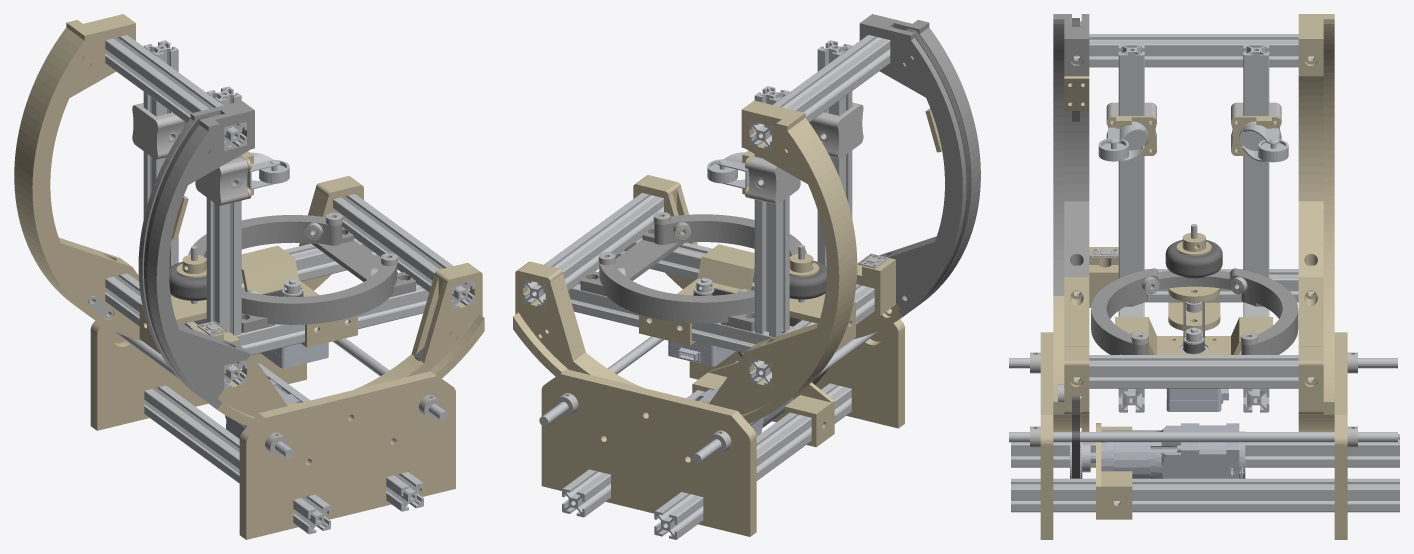
Rendered from biaxial.glb.
3 renders of one model, left to right at view 1: azimuth 30°, elevation 25°; view 2: azimuth 150°, elevation 25°; view 3: azimuth 270°, elevation 25°, orthographic.
Parts seen in each view (by area): view 1: 04_Soporte_base_Izq, 08_SujetadorAsC, 09_SujetadorA, 26_base_giro_z, 10_SujetadoB, 01_Soporte_base_Der, 18_2020-300, 17_2020-200, 13_2020-200, 11_2020-200, 27_sujetador_motor, 12_2020-200 (+15 smaller); view 2: 01_Soporte_base_Der, 08_SujetadorAsC, 09_SujetadorA, 26_base_giro_z, 07_SujetadorBsC, 04_Soporte_base_Izq, 15_2020-200, 18_2020-300, 11_2020-200, 13_2020-200, 27_sujetador_motor, 14_2020-200 (+18 smaller); view 3: 19_2020-300, 08_SujetadorAsC, 09_SujetadorA, 26_base_giro_z, 13_2020-200, 11_2020-200, 21_Nema_17_Gear_Stepper_Motor_50_to_1_Planetary_, 07_SujetadorBsC, 10_SujetadoB, 17_2020-200, 15_2020-200, 18_2020-300 (+20 smaller).
Part boxes in pixels (x1,y1,x2,y2): 04_Soporte_base_Izq: (239,371,455,539); 08_SujetadorAsC: (14,14,135,318); 09_SujetadorA: (138,101,254,409); 26_base_giro_z: (188,215,415,332); 10_SujetadoB: (217,263,484,425); 01_Soporte_base_Der: (90,320,306,430); 18_2020-300: (144,385,330,534); 17_2020-200: (206,86,241,335); 13_2020-200: (333,194,474,309); 11_2020-200: (105,35,246,150); 27_sujetador_motor: (241,245,357,347); 12_2020-200: (231,283,428,354); 01_Soporte_base_Der: (541,369,756,536); 08_SujetadorAsC: (741,100,857,407); 09_SujetadorA: (859,14,980,316); 26_base_giro_z: (580,214,806,331); 07_SujetadorBsC: (513,261,778,423); 04_Soporte_base_Izq: (689,319,904,428); 15_2020-200: (754,86,789,337); 18_2020-300: (654,383,851,539); 11_2020-200: (749,35,890,149); 13_2020-200: (523,193,663,307); 27_sujetador_motor: (639,244,754,345); 14_2020-200: (568,282,789,352); 19_2020-300: (1011,478,1399,512); 08_SujetadorAsC: (1298,14,1334,295); 09_SujetadorA: (1053,14,1089,295); 26_base_giro_z: (1091,268,1298,354); 13_2020-200: (1073,355,1314,388); 11_2020-200: (1073,34,1314,67); 21_Nema_17_Gear_Stepper_Motor_50_to_1_Planetary_: (1090,423,1245,478); 07_SujetadorBsC: (1298,277,1334,431); 10_SujetadoB: (1053,277,1089,431); 17_2020-200: (1118,44,1144,278); 15_2020-200: (1243,44,1269,277); 18_2020-300: (1011,434,1399,467).
Bounding box in the file's own units: 291 × 349 × 301.
